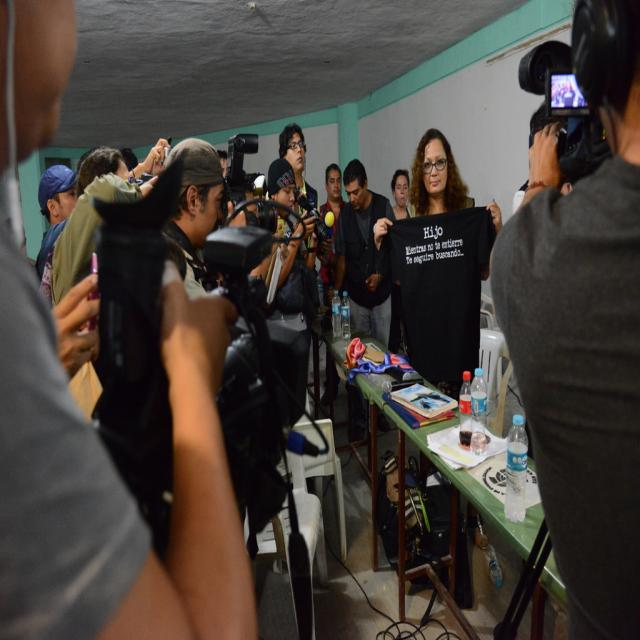desk: (384, 400, 564, 640)
person: (491, 2, 638, 625), (382, 126, 502, 396), (332, 156, 397, 345), (511, 100, 568, 216), (35, 162, 79, 298), (278, 124, 320, 214), (388, 168, 416, 219)
